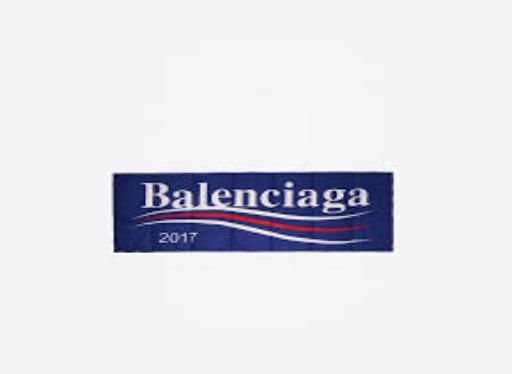BALENCIAGA: (131, 182, 380, 246)
